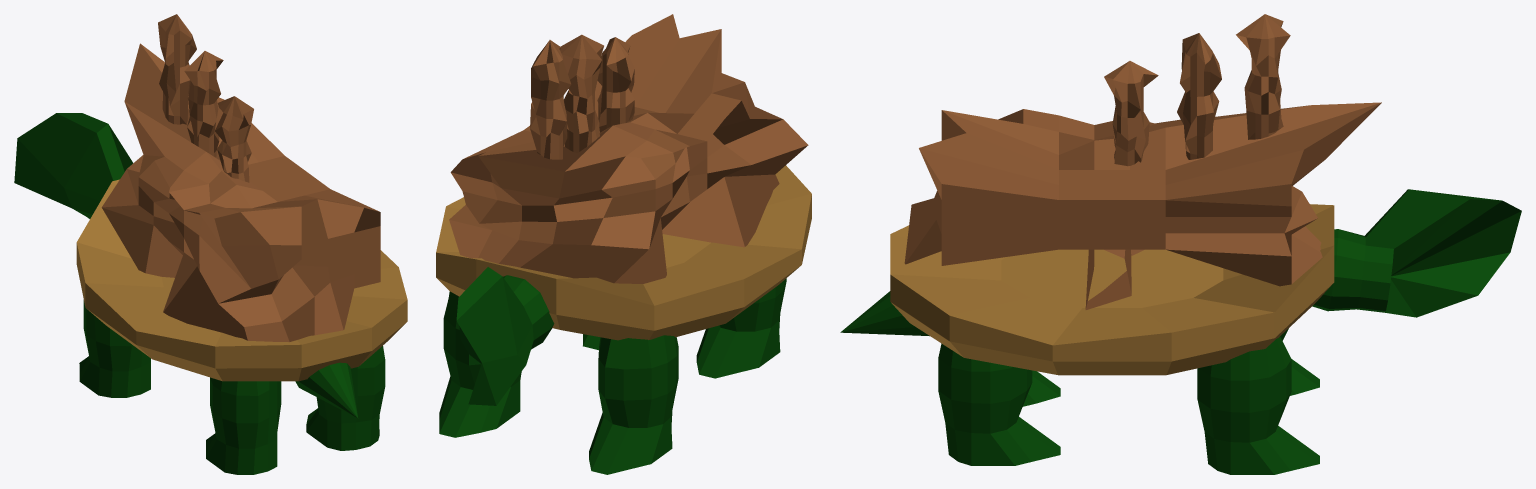
File: aremag.gltf
3 renders of one model, left to right at view 1: azimuth 30°, elevation 25°; view 2: azimuth 150°, elevation 25°; view 3: azimuth 270°, elevation 25°, orthographic. The views are drawn at different scales.
Parts seen in each view (by area): view 1: rock, shell_frame, leg (×3), head, pillar (×3), tail; view 2: rock, shell_frame, leg (×3), pillar (×3), head; view 3: rock, shell_frame, leg (×4), head, pillar (×3), tail.
Boxes of the visible parts, <box> form: rock: <box>101,43,380,342</box>; shell_frame: <box>76,179,407,381</box>; leg (×3): <box>79,300,385,474</box>; head: <box>14,113,132,218</box>; pillar (×3): <box>158,14,253,182</box>; tail: <box>295,362,358,418</box>; rock: <box>449,14,808,283</box>; shell_frame: <box>436,165,811,340</box>; leg (×3): <box>439,278,786,474</box>; pillar (×3): <box>530,34,634,159</box>; head: <box>456,267,554,405</box>; rock: <box>904,102,1381,309</box>; shell_frame: <box>890,204,1334,375</box>; leg (×4): <box>938,328,1319,474</box>; head: <box>1312,189,1521,317</box>; pillar (×3): <box>1104,14,1290,166</box>; tail: <box>840,291,929,336</box>.
Size of the model in its own units: 200 by 253 by 384.
3 materials, 3 textured.
